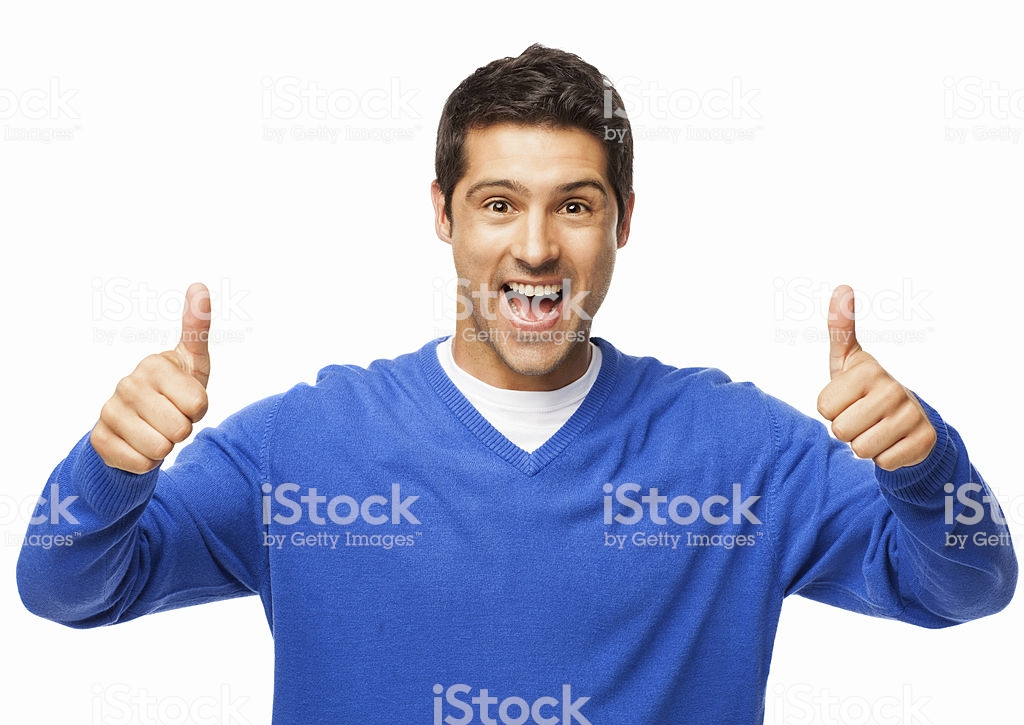thumbsup: (90, 282, 211, 474), (816, 284, 936, 471)
